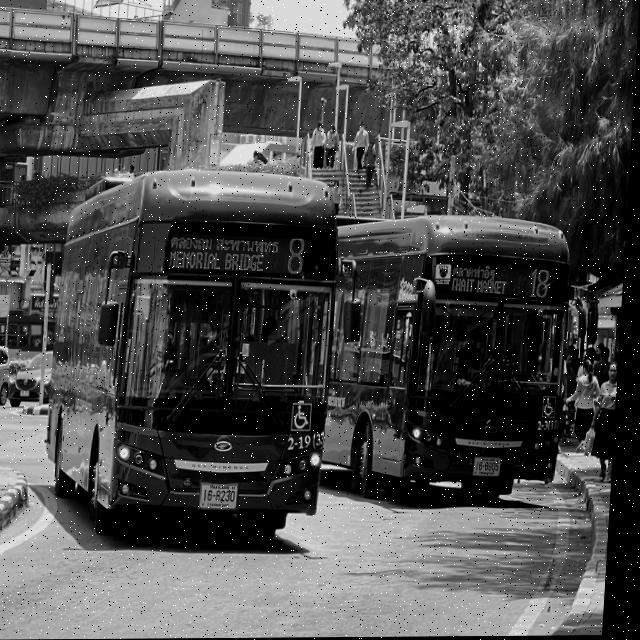Bus-Line-Number: (529, 262, 561, 305), (285, 235, 314, 281)
Destination-Sign-Normal: (166, 235, 285, 281), (451, 260, 517, 300)
TSB-Bus: (48, 168, 347, 537), (325, 216, 580, 501)
